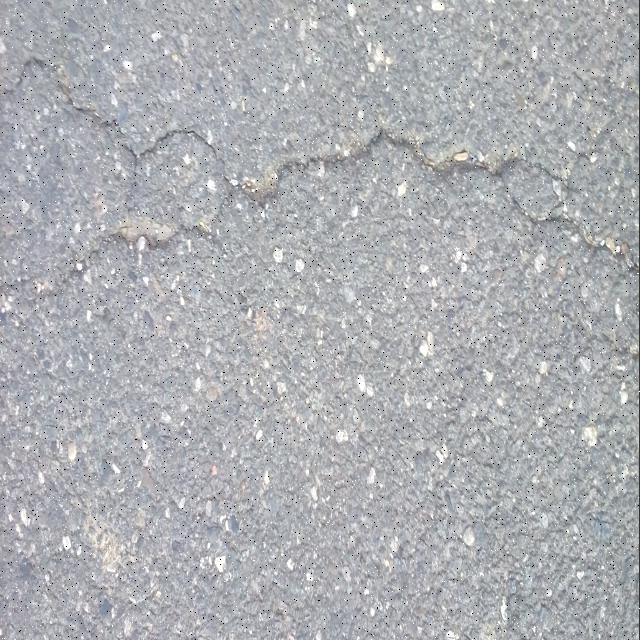Crack: (0, 57, 640, 298)
